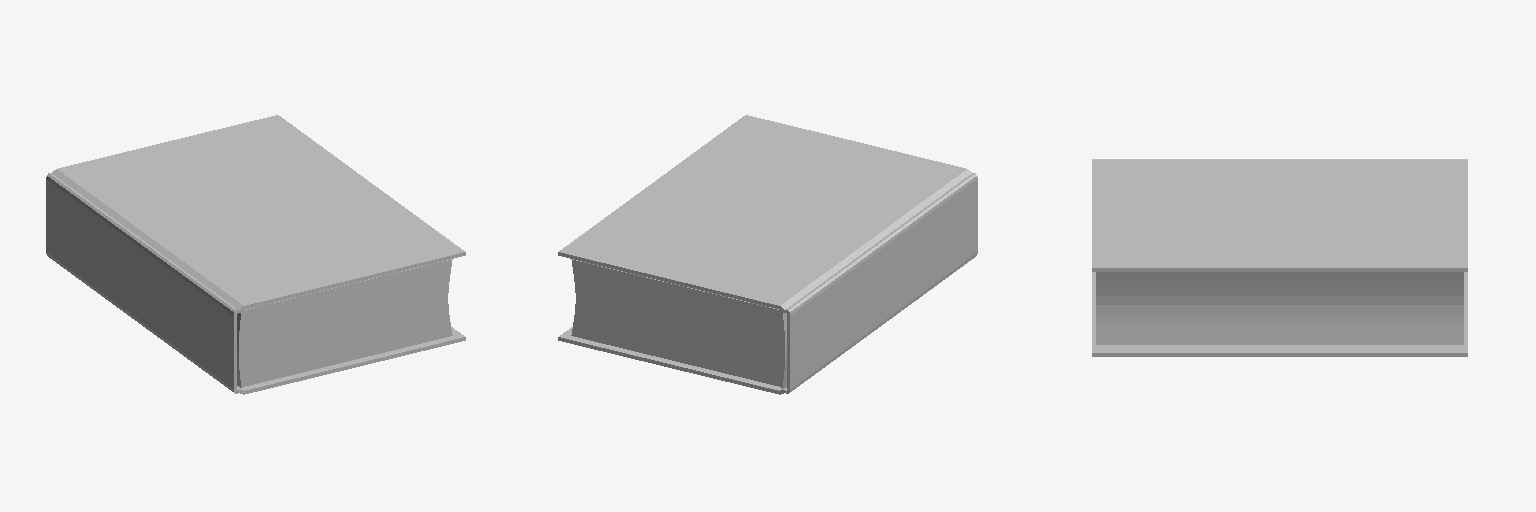
Rendered from book-closed.obj.
The picture shows the model from 3 angles: view 1: azimuth 30°, elevation 25°; view 2: azimuth 150°, elevation 25°; view 3: azimuth 270°, elevation 25°; orthographic projection.
Parts seen in each view (by area): view 1: 魔導書(閉)_mesh_魔導書(閉); view 2: 魔導書(閉)_mesh_魔導書(閉); view 3: 魔導書(閉)_mesh_魔導書(閉).
Boxes of the visible parts, box(x1,y1,x2,y2) form: 魔導書(閉)_mesh_魔導書(閉): box(46, 115, 465, 394); 魔導書(閉)_mesh_魔導書(閉): box(558, 115, 977, 394); 魔導書(閉)_mesh_魔導書(閉): box(1092, 159, 1467, 356).
Bounding box in the file's own units: 0.848 × 0.3102 × 1.19.